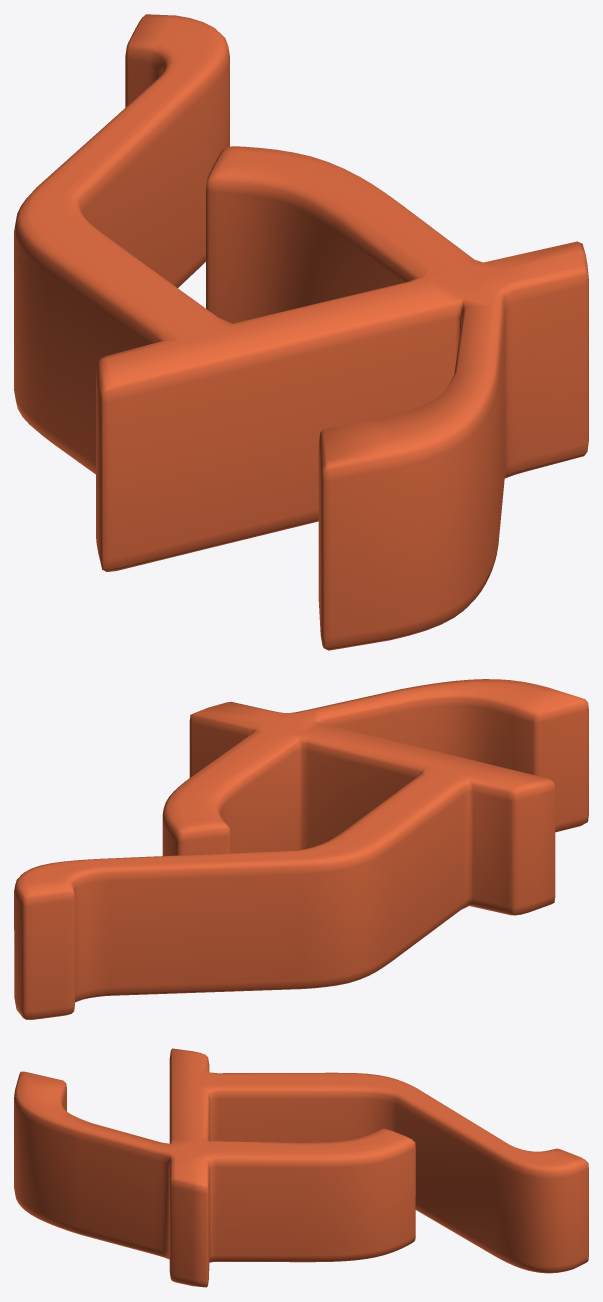
The picture shows the model from 3 angles, top to bottom: view 1: azimuth 30°, elevation 25°; view 2: azimuth 150°, elevation 25°; view 3: azimuth 270°, elevation 25°; orthographic projection. The views are drawn at different scales.
Visible parts, largest first — view 1: 3D_Alphabets_Hindi_Language_02.008; view 2: 3D_Alphabets_Hindi_Language_02.008; view 3: 3D_Alphabets_Hindi_Language_02.008.
Boxes of the visible parts, x1,y1,x2,y2 form: 3D_Alphabets_Hindi_Language_02.008: [14, 14, 588, 650]; 3D_Alphabets_Hindi_Language_02.008: [14, 679, 588, 1019]; 3D_Alphabets_Hindi_Language_02.008: [14, 1048, 588, 1287].
Size of the model in its own units: 0.5972 by 0.2128 by 1.04.
